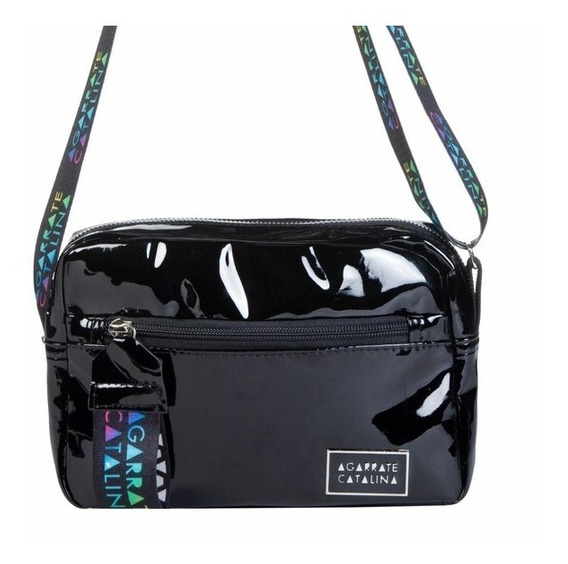cartera: (33, 24, 489, 510)
